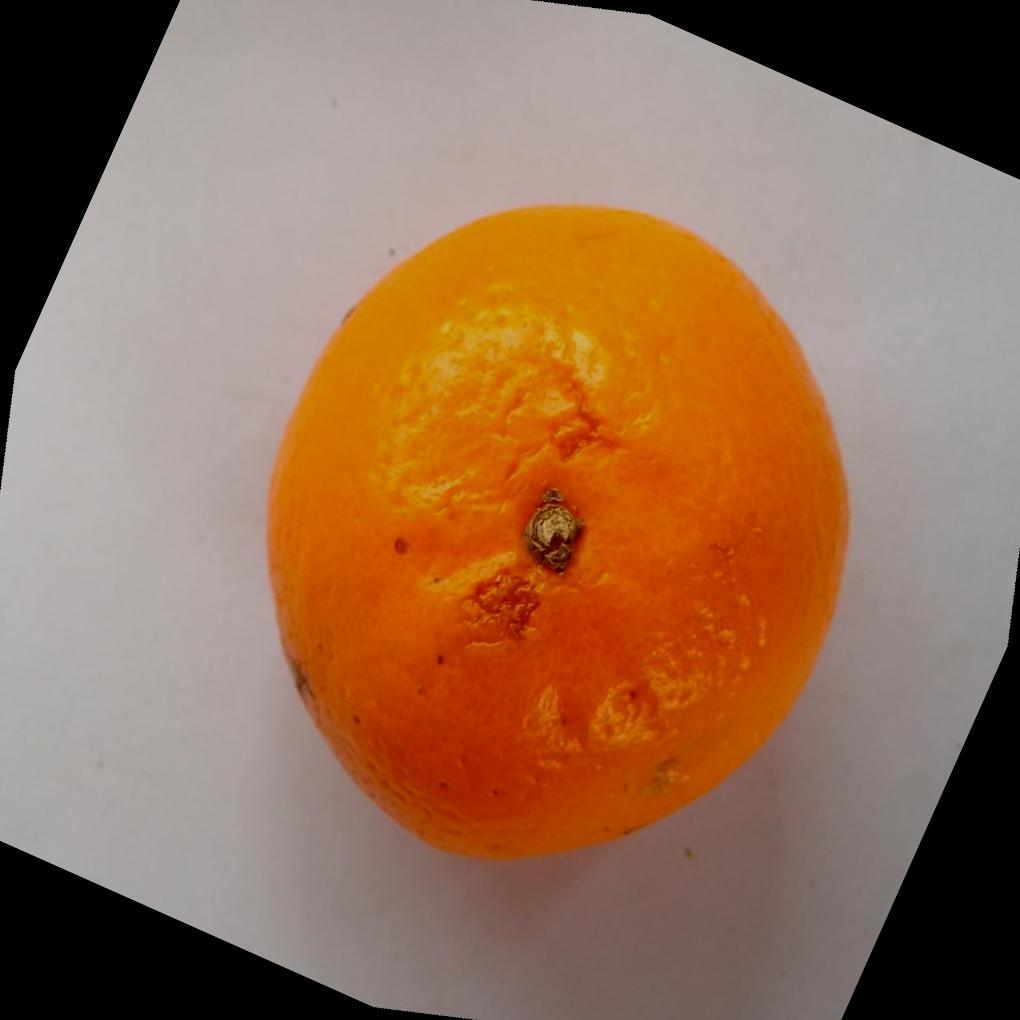FreshGuava: (266, 199, 852, 860)
